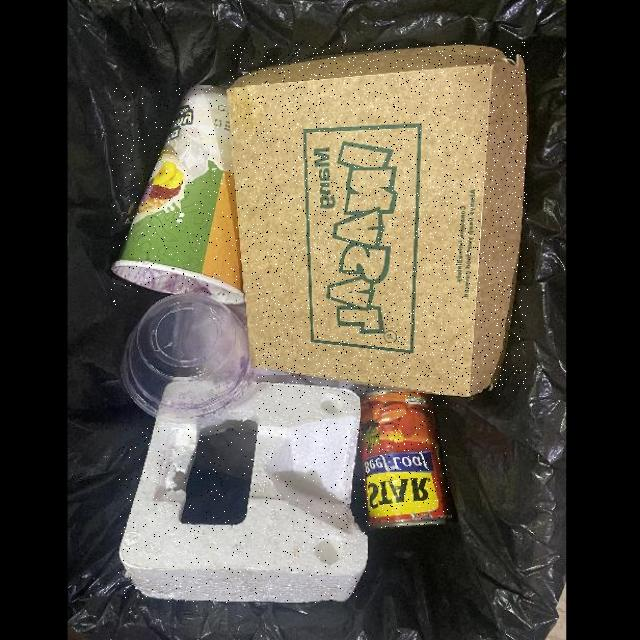metal: (360, 391, 449, 527)
paper: (227, 42, 528, 396), (112, 83, 245, 305)
plastic: (120, 293, 256, 423)
styrofoam: (119, 376, 368, 602)
